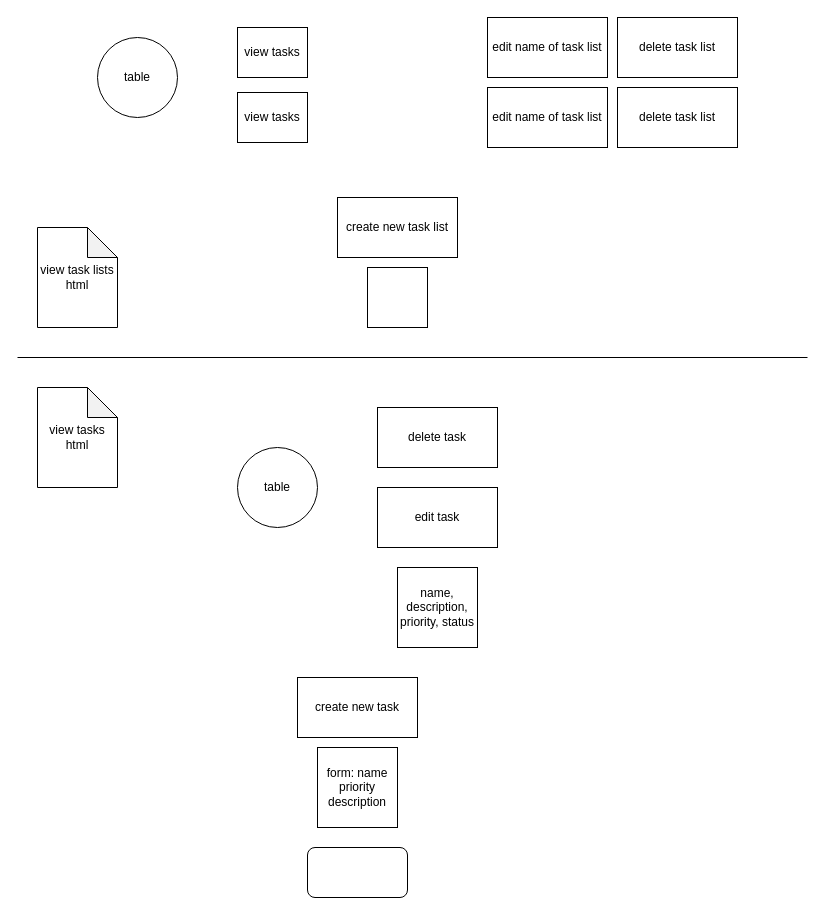
Image size: 826x915. Some labels were removed from this diagram. Each missing label, with the centre of its shape:
assign to task list: (357,872)
form: name: (397,297)
